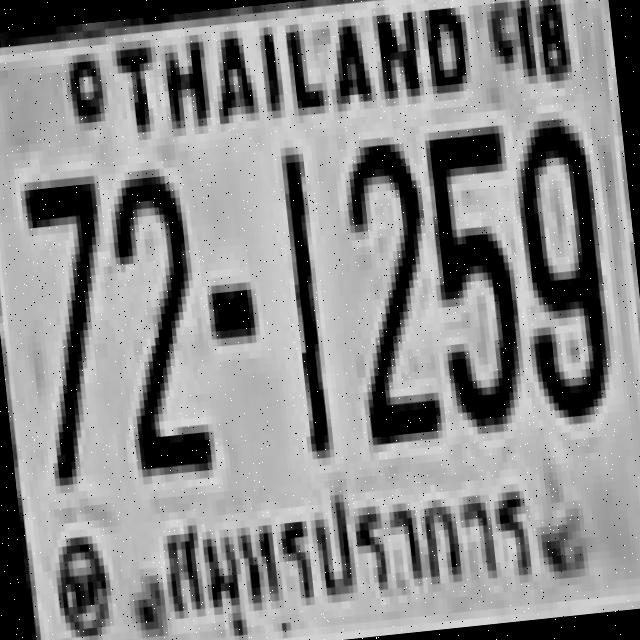1: (274, 142, 330, 455)
2: (104, 158, 210, 470), (337, 134, 442, 438)
5: (418, 118, 524, 429)
7: (19, 168, 120, 479)
9: (506, 108, 612, 420)
SamutPrakan: (146, 462, 546, 640)
